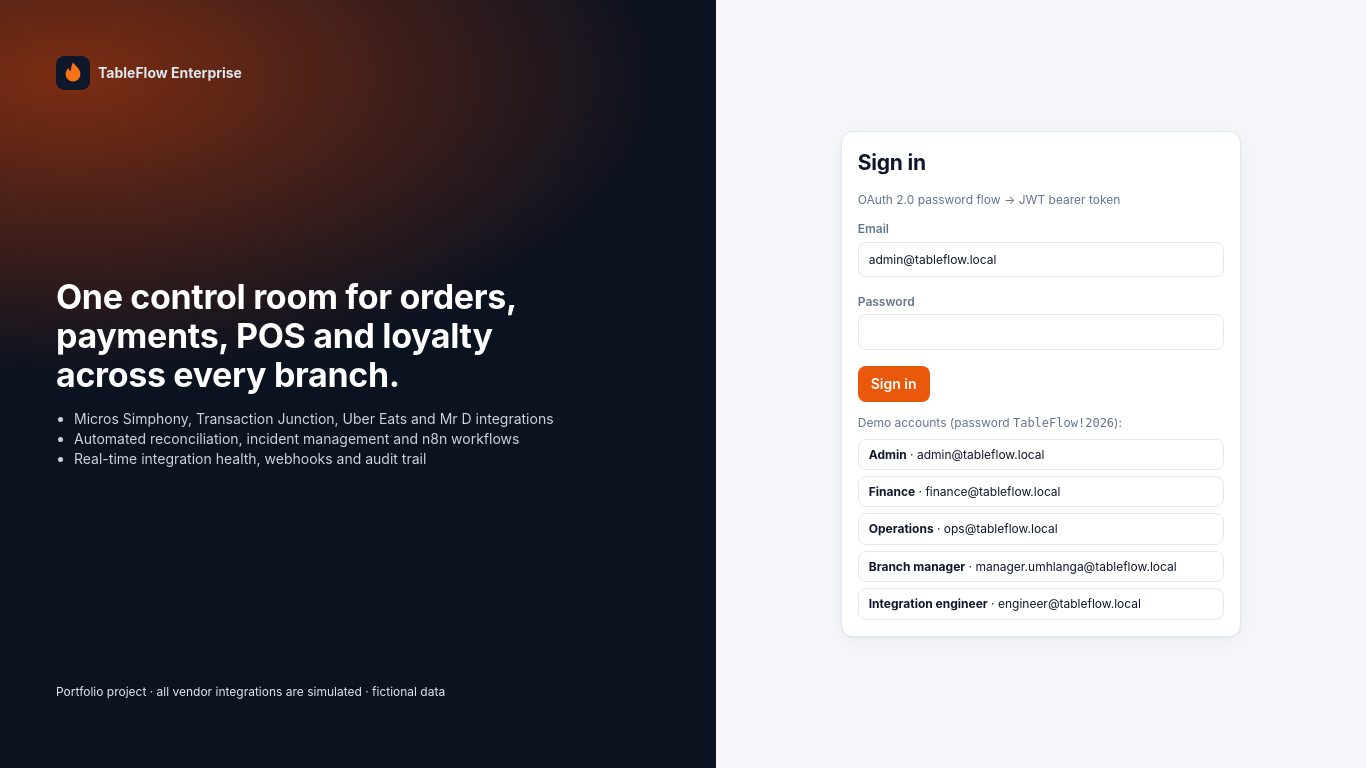
Test: Login page › shows the API error on bad credentials
Type "wrong-password" into the password field labelled "Password" at (1041, 332), box [858,314,1224,350]
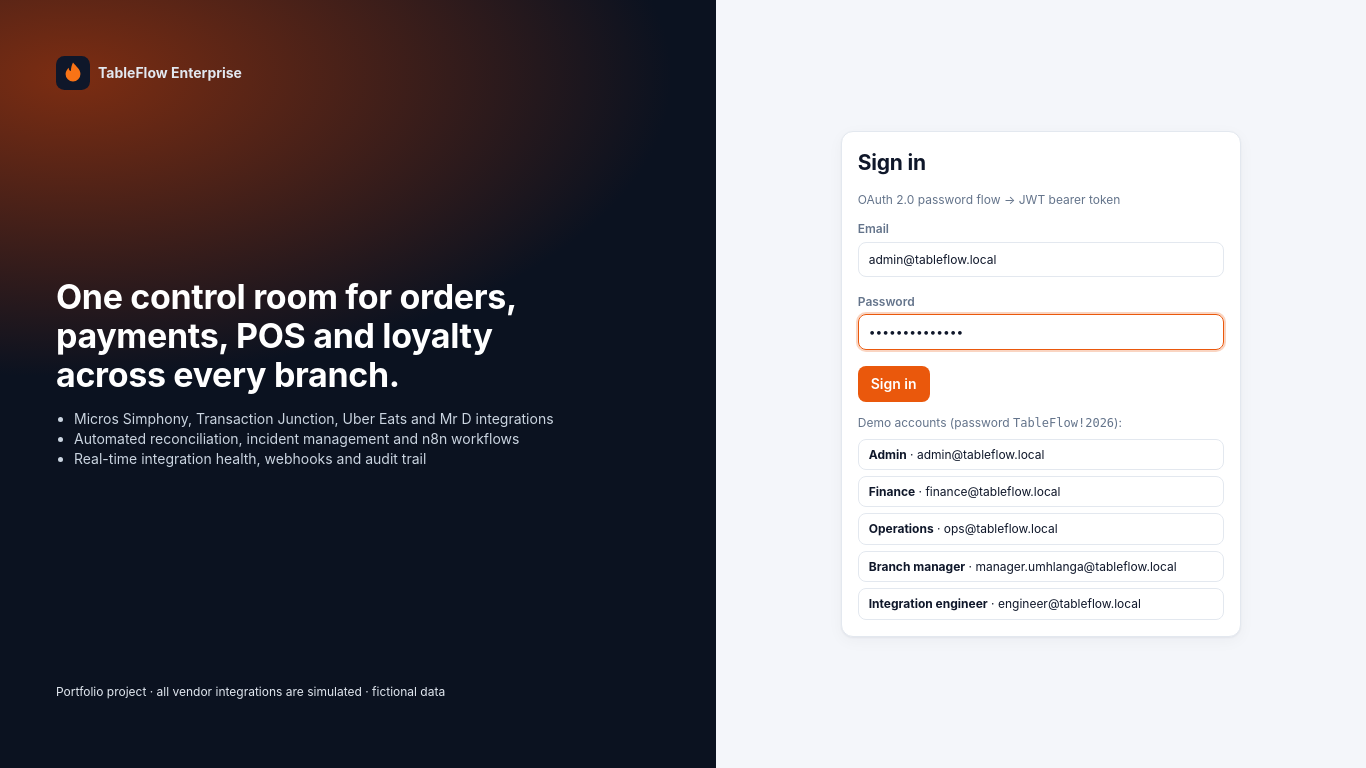
Click the button "Sign in" at (894, 384), box [858,366,930,402]
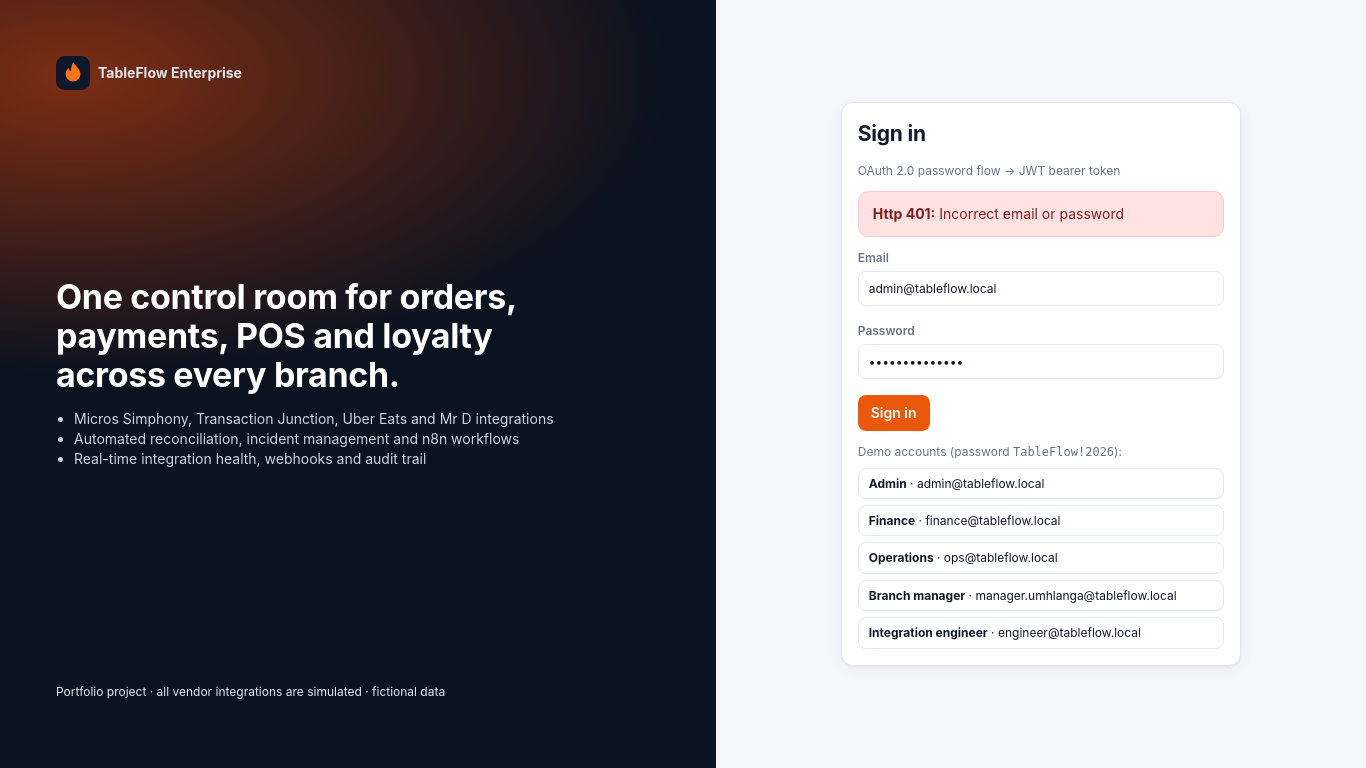
Now the message shows "Incorrect email or password", box [939,205,1124,222]
